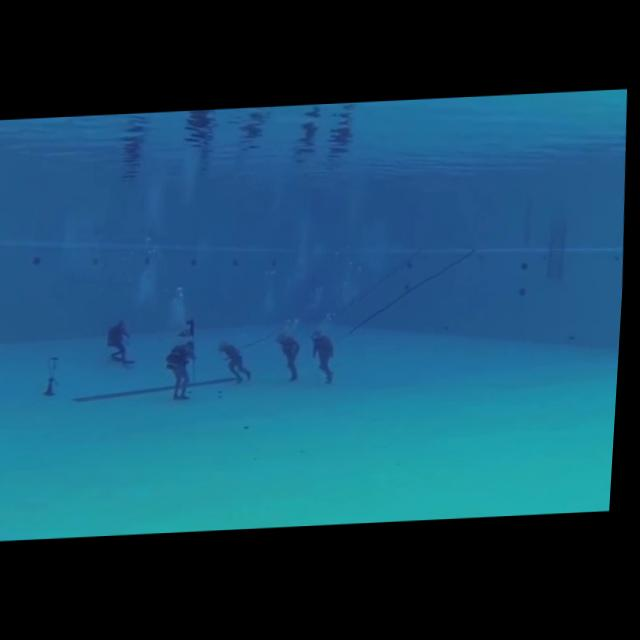human: (162, 333, 207, 404), (217, 333, 261, 391), (309, 322, 348, 387), (103, 312, 143, 368), (275, 328, 312, 387)
